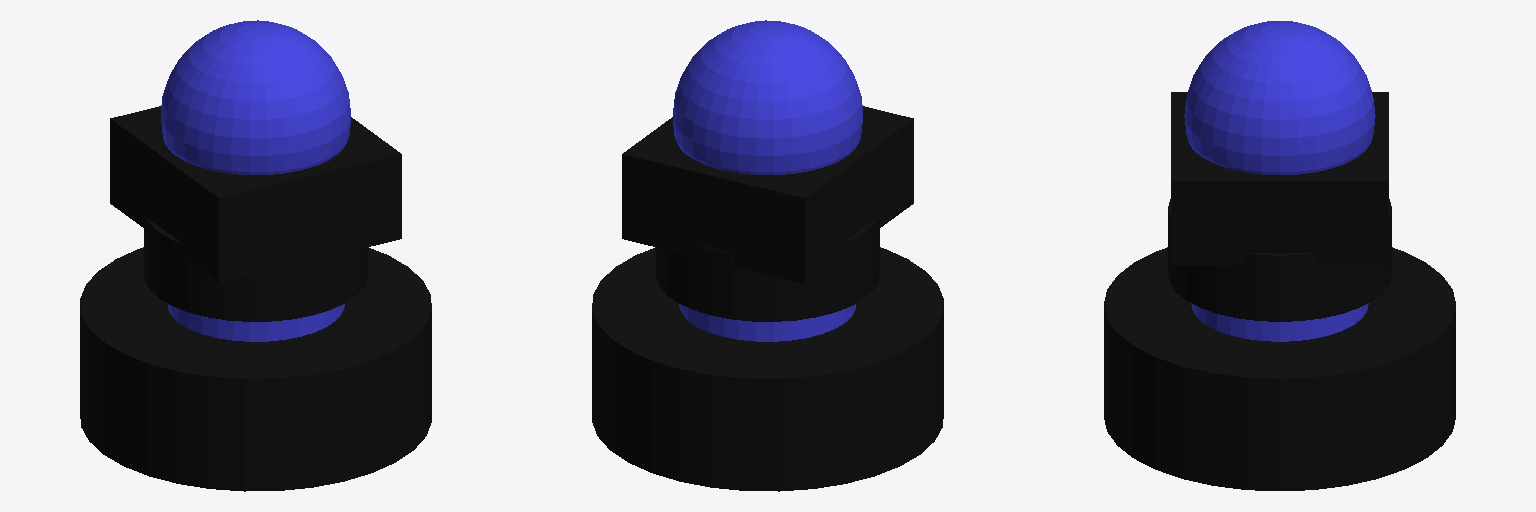
URDF robot description (evolved_robot):
<?xml version="1.0"?>
<robot name="evolved_robot">
  <material name="metal">
    <color rgba="0.7 0.7 0.7 1.0"/>
  </material>
  <material name="plastic">
    <color rgba="0.3 0.3 0.9 1.0"/>
  </material>
  <material name="rubber">
    <color rgba="0.1 0.1 0.1 1.0"/>
  </material>
  <material name="red">
    <color rgba="1.0 0.0 0.0 1.0"/>
  </material>
  <material name="wheel_material">
    <color rgba="0.2 0.2 0.2 1.0"/>
  </material>
  <link name="base_link">
    <visual>
      <geometry><cylinder radius="0.12720128088981875" length="0.08967099717663922"/></geometry>
      <material name="rubber"/>
    </visual>
    <collision>
      <geometry><cylinder radius="0.12720128088981875" length="0.08967099717663922"/></geometry>
    </collision>
    <inertial>
      <mass value="5.0"/>
      <inertia ixx="0.04715115442890378" ixy="0" ixz="0" 
               iyy="0.04715115442890378" iyz="0" 
               izz="0.08090082930005285"/>
    </inertial>
  </link>
  <link name="link1">
    <visual>
      <geometry><cylinder radius="0.06400245244877761" length="0.1427863277072362"/></geometry>
      <material name="plastic"/>
    </visual>
    <collision>
      <geometry><cylinder radius="0.06400245244877761" length="0.1427863277072362"/></geometry>
    </collision>
    <inertial>
      <mass value="0.5"/>
      <inertia ixx="0.0027230730948743643" ixy="0" ixz="0" 
               iyy="0.0027230730948743643" iyz="0" 
               izz="0.00204815695972902"/>
    </inertial>
  </link>
  <joint name="joint1" type="prismatic">
    <parent link="base_link"/>
    <child link="link1"/>
    <origin xyz="0 0 0.04483549858831961" rpy="0 0 0"/>
    <axis xyz="0.906113677164216 -0.3589202130908461 0.22390686610902424"/>
    <dynamics damping="0.733667224739957" friction="0.1"/>
    <limit lower="-0.9555381746162789" upper="0.9438424306910559" effort="100" velocity="100"/>
  </joint>
  <link name="link2">
    <visual>
      <geometry><cylinder radius="0.08083269291082423" length="0.05266415619830942"/></geometry>
      <material name="rubber"/>
    </visual>
    <collision>
      <geometry><cylinder radius="0.08083269291082423" length="0.05266415619830942"/></geometry>
    </collision>
    <inertial>
      <mass value="0.5"/>
      <inertia ixx="0.0018646071731438978" ixy="0" ixz="0" 
               iyy="0.0018646071731438978" iyz="0" 
               izz="0.003266962121607807"/>
    </inertial>
  </link>
  <joint name="joint2" type="revolute">
    <parent link="base_link"/>
    <child link="link2"/>
    <origin xyz="0 0 0.0948354985883196" rpy="0 0 0"/>
    <axis xyz="0.12793577622601485 0.9916634348867461 0.015364539370490132"/>
    <dynamics damping="0.696316638650114" friction="0.1"/>
    <limit lower="-0.9769207231415241" upper="0.3088238549099797" effort="100" velocity="100"/>
  </joint>
  <link name="link3">
    <visual>
      <geometry><box size="0.15197306139109826 0.15755732544313733 0.06773367558203931"/></geometry>
      <material name="rubber"/>
    </visual>
    <collision>
      <geometry><box size="0.15197306139109826 0.15755732544313733 0.06773367558203931"/></geometry>
    </collision>
    <inertial>
      <mass value="0.5"/>
      <inertia ixx="0.002451013467387303" ixy="0" ixz="0" 
               iyy="0.0023069718497029557" iyz="0" 
               izz="0.003993343515781434"/>
    </inertial>
  </link>
  <joint name="joint3" type="fixed">
    <parent link="base_link"/>
    <child link="link3"/>
    <origin xyz="0 0 0.14483549858831962" rpy="0 0 0"/>
    <axis xyz="0.5199554780873281 0.4175381768539448 0.7451900238707319"/>
    <dynamics damping="0.5887855533223098" friction="0.1"/>
  </joint>
  <link name="link4">
    <visual>
      <geometry><sphere radius="0.06896209589531067"/></geometry>
      <material name="plastic"/>
    </visual>
    <collision>
      <geometry><sphere radius="0.06896209589531067"/></geometry>
    </collision>
    <inertial>
      <mass value="0.5"/>
      <inertia ixx="0.00190230826810961" ixy="0" ixz="0" 
               iyy="0.00190230826810961" iyz="0" 
               izz="0.00190230826810961"/>
    </inertial>
  </link>
  <joint name="joint4" type="prismatic">
    <parent link="base_link"/>
    <child link="link4"/>
    <origin xyz="0 0 0.19483549858831964" rpy="0 0 0"/>
    <axis xyz="-0.09880738307330886 -0.8559223933280267 -0.5075765534870845"/>
    <dynamics damping="0.7617778135493298" friction="0.1"/>
    <limit lower="-0.6705610024174679" upper="1.0847954242658242" effort="100" velocity="100"/>
  </joint>
</robot>

--- Render facts (derived) ---
The picture shows the robot from 3 angles, left to right: view 1: azimuth 30°, elevation 25°; view 2: azimuth 150°, elevation 25°; view 3: azimuth 270°, elevation 25°; orthographic projection.
Model evolved_robot with 5 links and 4 joints (1 revolute, 2 prismatic, 1 fixed), rooted at base_link, posed every joint at zero.
Visible links, largest first — view 1: base_link, link3, link4, link2, link1; view 2: base_link, link3, link4, link2, link1; view 3: base_link, link4, link3, link2, link1.
Link boxes in pixels (x1=…): base_link: x1=80, y1=247, x2=431, y2=491; link3: x1=110, y1=106, x2=401, y2=283; link4: x1=161, y1=20, x2=350, y2=174; link2: x1=144, y1=217, x2=367, y2=321; link1: x1=168, y1=304, x2=344, y2=341; base_link: x1=592, y1=247, x2=943, y2=491; link3: x1=622, y1=106, x2=913, y2=283; link4: x1=673, y1=20, x2=862, y2=174; link2: x1=656, y1=217, x2=879, y2=321; link1: x1=679, y1=304, x2=855, y2=341; base_link: x1=1104, y1=247, x2=1455, y2=490; link4: x1=1184, y1=21, x2=1375, y2=174; link3: x1=1171, y1=92, x2=1388, y2=265; link2: x1=1168, y1=199, x2=1391, y2=321; link1: x1=1191, y1=303, x2=1368, y2=341.
Size in the robot's own frame: 0.2544 by 0.2544 by 0.3086 metres.
Geometry: primitives only (box / cylinder / sphere), no mesh files.